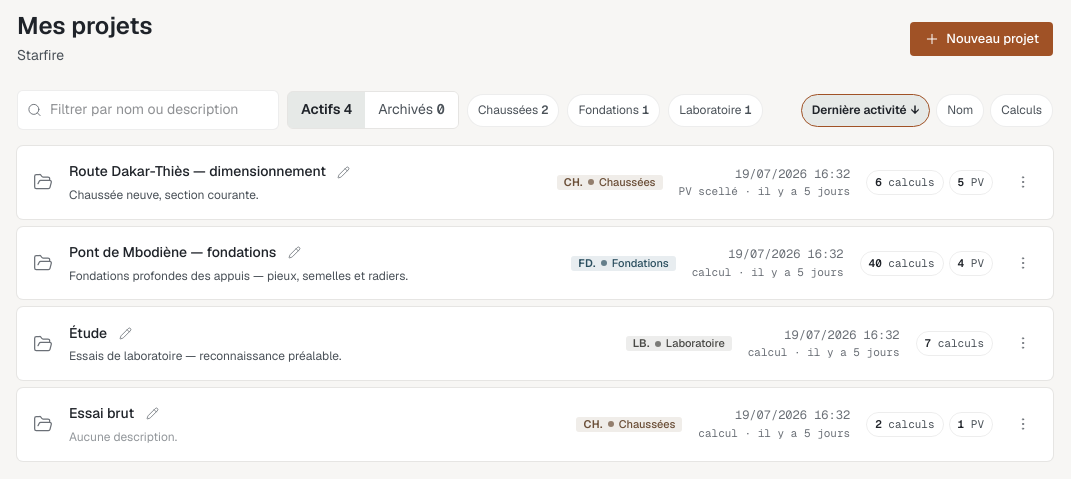
it: Liste des projets — barre d’outils › #5c GIVEN une option déjà active — WHEN on la reclique — THEN le sens du tri bascule
Click the button "Dernière activité↓".
click(865, 110)  # box [801,94,930,127]
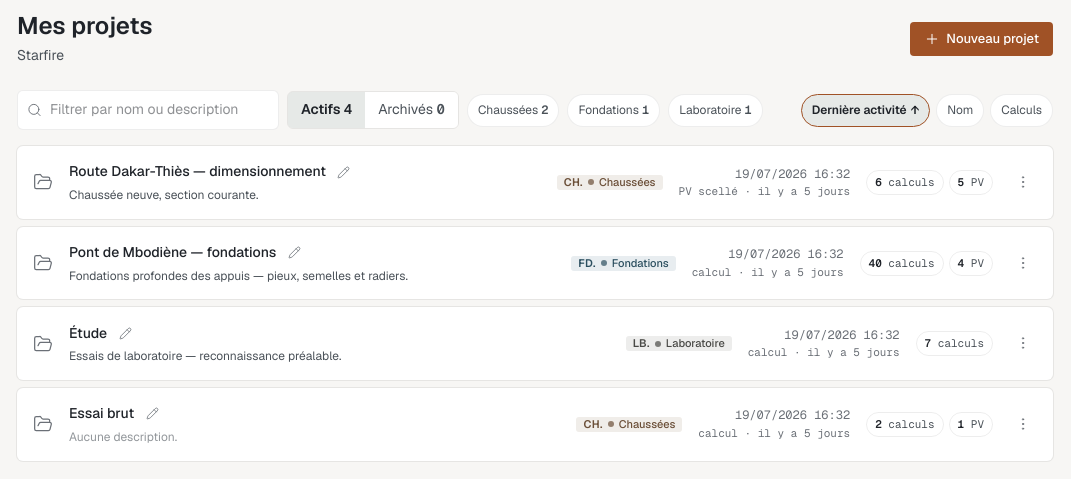
Expected: the button "Dernière activité↑" is shown, [801,94,930,127]
